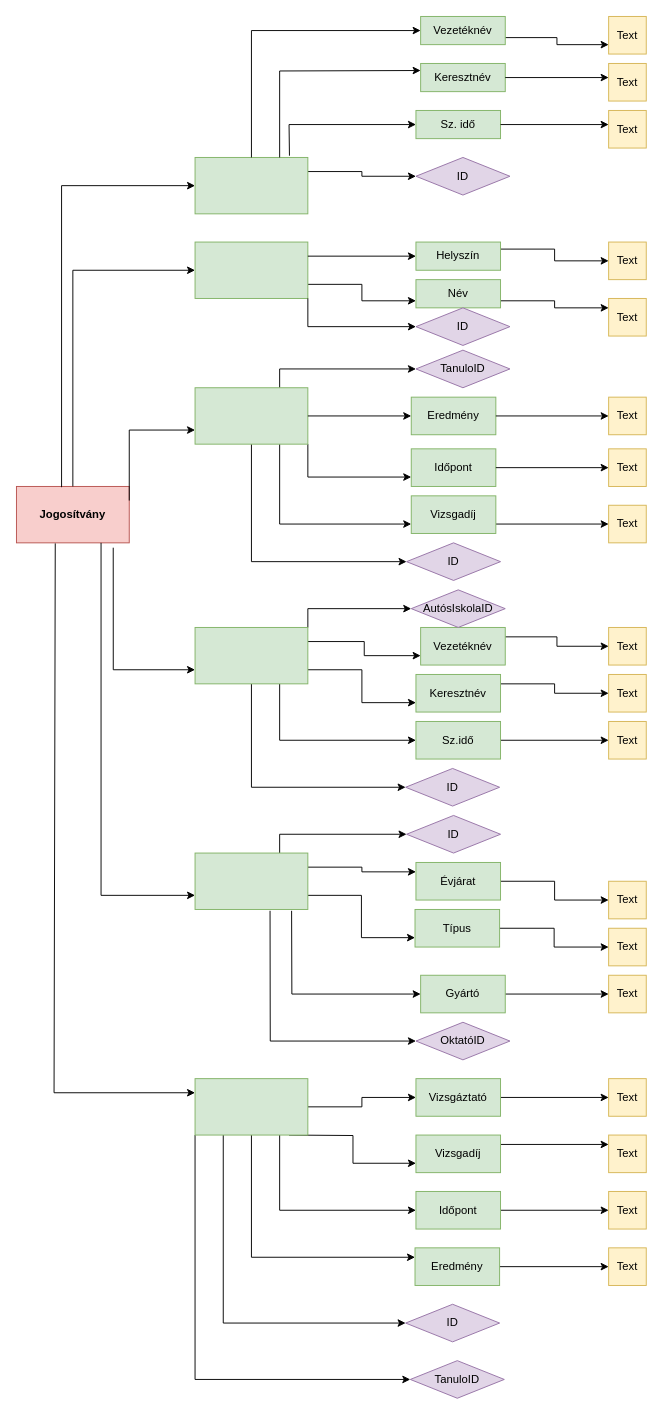
The diagram is 663 pixels wide and 1415 high, and some of its shapes have lost their labels. The box of each missing label's shape, as (x1, y1, x2, y2) in pixels:
Autósiskola: (194, 241, 308, 298)
Forgalmi vizsga: (194, 1078, 308, 1135)
Jármű: (194, 852, 308, 909)
Kreszvizsga: (194, 387, 308, 444)
Oktató: (194, 627, 308, 684)
Tanuló: (194, 157, 308, 214)
